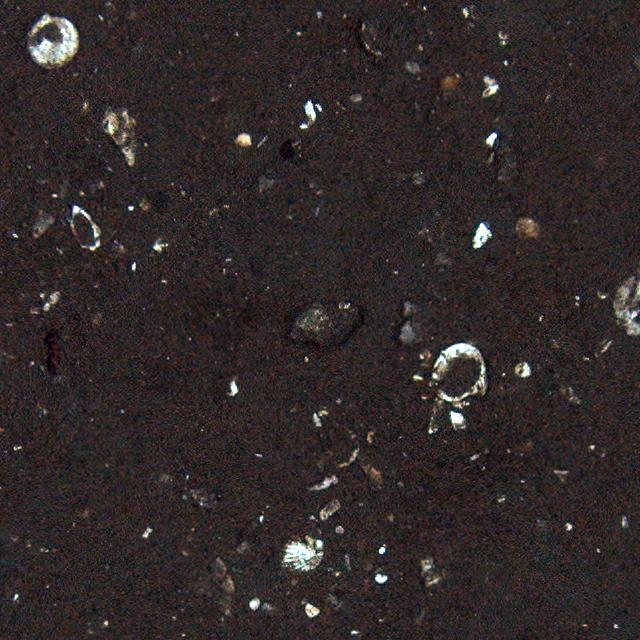whelk: (286, 295, 368, 353)
